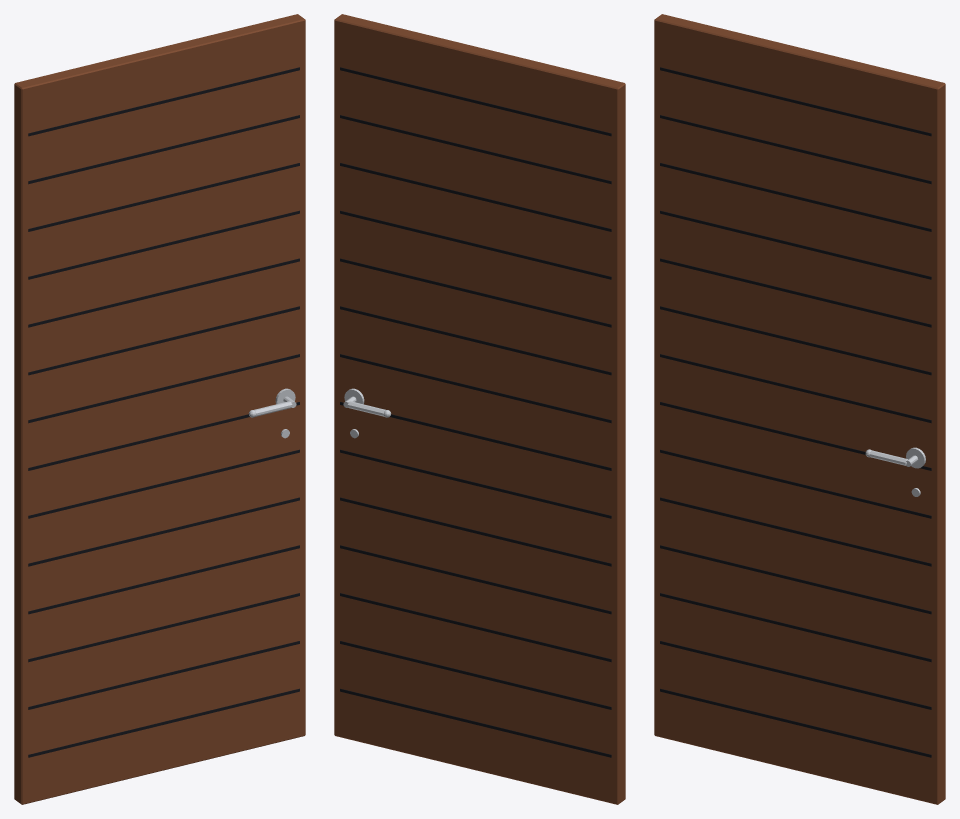
File: porta_ripas_madeira.glb
The picture shows the model from 3 angles, left to right: view 1: azimuth 30°, elevation 25°; view 2: azimuth 150°, elevation 25°; view 3: azimuth 330°, elevation 25°; orthographic projection.
Parts seen in each view (by area): view 1: porta_ripas_madeira; view 2: porta_ripas_madeira; view 3: porta_ripas_madeira.
Part boxes in pixels (x1,y1,x2,y2): porta_ripas_madeira: (14, 14, 305, 804); porta_ripas_madeira: (334, 14, 625, 804); porta_ripas_madeira: (654, 14, 945, 804).
Size of the model in its own units: 0.86 by 2.07 by 0.143.
